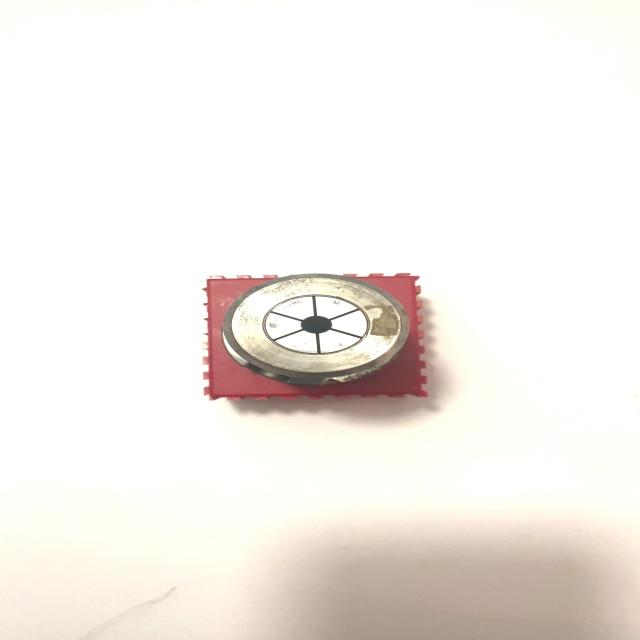Filled_Slot: (220, 274, 409, 385)
